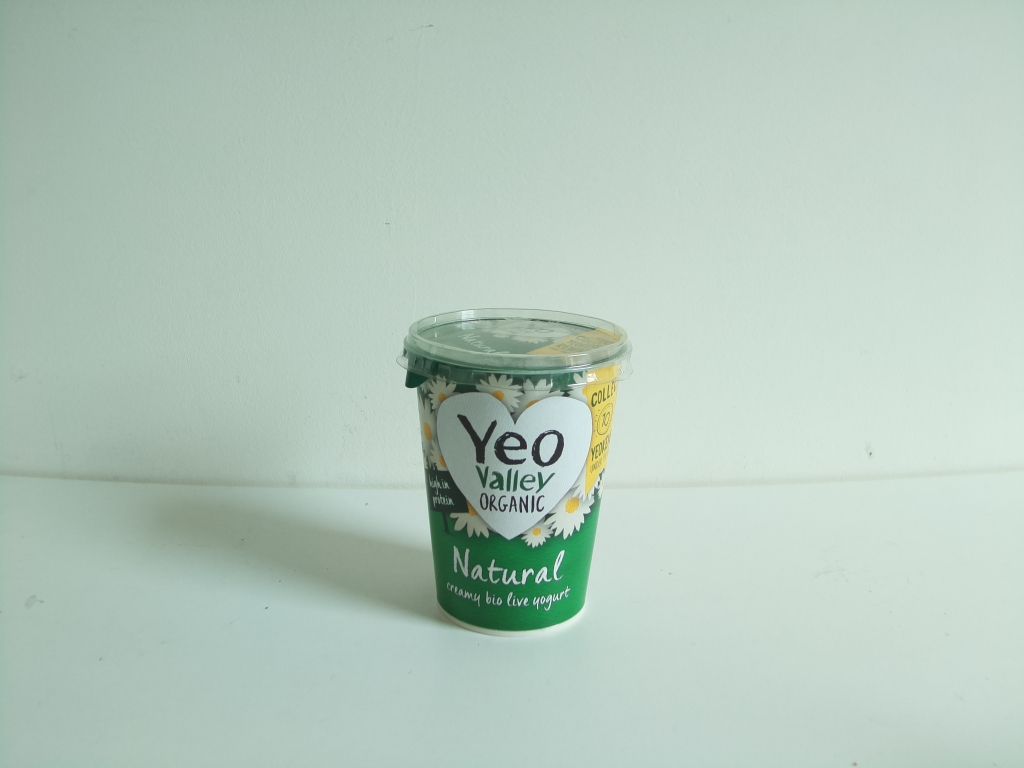yogurt: (394, 308, 636, 642)
